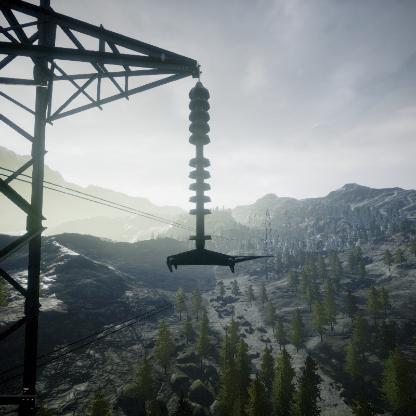insulator: (188, 81, 213, 249)
